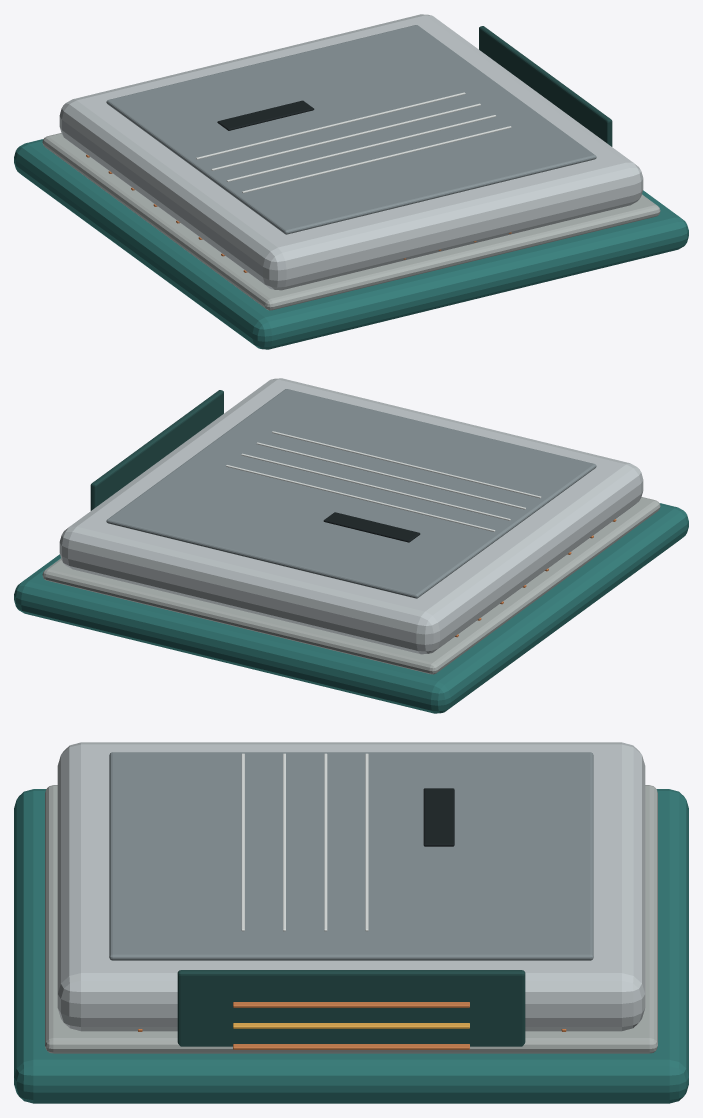
The model's file is cpu-package.glb.
3 views of the same model, one above another, from view 1: azimuth 30°, elevation 25°; view 2: azimuth 150°, elevation 25°; view 3: azimuth 270°, elevation 25° (orthographic). The views are drawn at different scales.
Parts seen in each view (by area): view 1: cpu-lid · raised contact surface, cpu-lid · nickel heat spreader, cpu-substrate · main package board, cpu-substrate · ceramic carrier, cpu-package · teaching cutaway edge, cpu-lid · dark identification plate, cpu-lid · etched line 4, cpu-lid · etched line 1, cpu-lid · etched line 3, cpu-lid · etched line 2; view 2: cpu-lid · raised contact surface, cpu-lid · nickel heat spreader, cpu-substrate · main package board, cpu-substrate · ceramic carrier, cpu-package · teaching cutaway edge, cpu-lid · dark identification plate, cpu-lid · etched line 3, cpu-lid · etched line 2, cpu-lid · etched line 1, cpu-lid · etched line 4; view 3: cpu-lid · raised contact surface, cpu-substrate · main package board, cpu-lid · nickel heat spreader, cpu-package · teaching cutaway edge, cpu-substrate · ceramic carrier, cpu-lid · dark identification plate, cpu-package · layer seam 1, cpu-package · layer seam 2, cpu-package · layer seam 3, cpu-lid · etched line 1, cpu-lid · etched line 3, cpu-lid · etched line 4.
Boxes of the visible parts, x1,y1,x2,y2 form: cpu-lid · raised contact surface: (106, 25, 596, 234); cpu-lid · nickel heat spreader: (59, 14, 643, 290); cpu-substrate · main package board: (14, 139, 688, 349); cpu-substrate · ceramic carrier: (42, 133, 660, 310); cpu-package · teaching cutaway edge: (479, 26, 612, 146); cpu-lid · dark identification plate: (217, 100, 314, 130); cpu-lid · etched line 4: (196, 92, 465, 159); cpu-lid · etched line 1: (242, 126, 511, 193); cpu-lid · etched line 3: (211, 103, 480, 170); cpu-lid · etched line 2: (226, 115, 496, 181); cpu-lid · raised contact surface: (106, 389, 596, 598); cpu-lid · nickel heat spreader: (59, 378, 643, 654); cpu-substrate · main package board: (14, 503, 688, 713); cpu-substrate · ceramic carrier: (42, 497, 660, 674); cpu-package · teaching cutaway edge: (90, 390, 223, 510); cpu-lid · dark identification plate: (323, 512, 420, 542); cpu-lid · etched line 3: (241, 453, 510, 520); cpu-lid · etched line 2: (256, 442, 525, 509); cpu-lid · etched line 1: (272, 431, 541, 498); cpu-lid · etched line 4: (226, 465, 495, 531); cpu-lid · raised contact surface: (109, 752, 593, 960); cpu-substrate · main package board: (14, 789, 688, 1103); cpu-lid · nickel heat spreader: (57, 742, 645, 1031); cpu-package · teaching cutaway edge: (177, 970, 525, 1046); cpu-substrate · ceramic carrier: (45, 785, 657, 1053); cpu-lid · dark identification plate: (423, 788, 454, 846); cpu-package · layer seam 1: (233, 1044, 469, 1049); cpu-package · layer seam 2: (233, 1023, 469, 1028); cpu-package · layer seam 3: (233, 1002, 469, 1007); cpu-lid · etched line 1: (241, 753, 244, 931); cpu-lid · etched line 3: (324, 753, 327, 931); cpu-lid · etched line 4: (365, 753, 368, 931).
Size of the model in its own units: 2.62 by 0.564 by 2.62.
